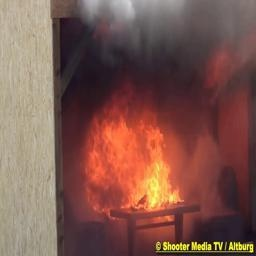fire: (82, 101, 199, 217)
